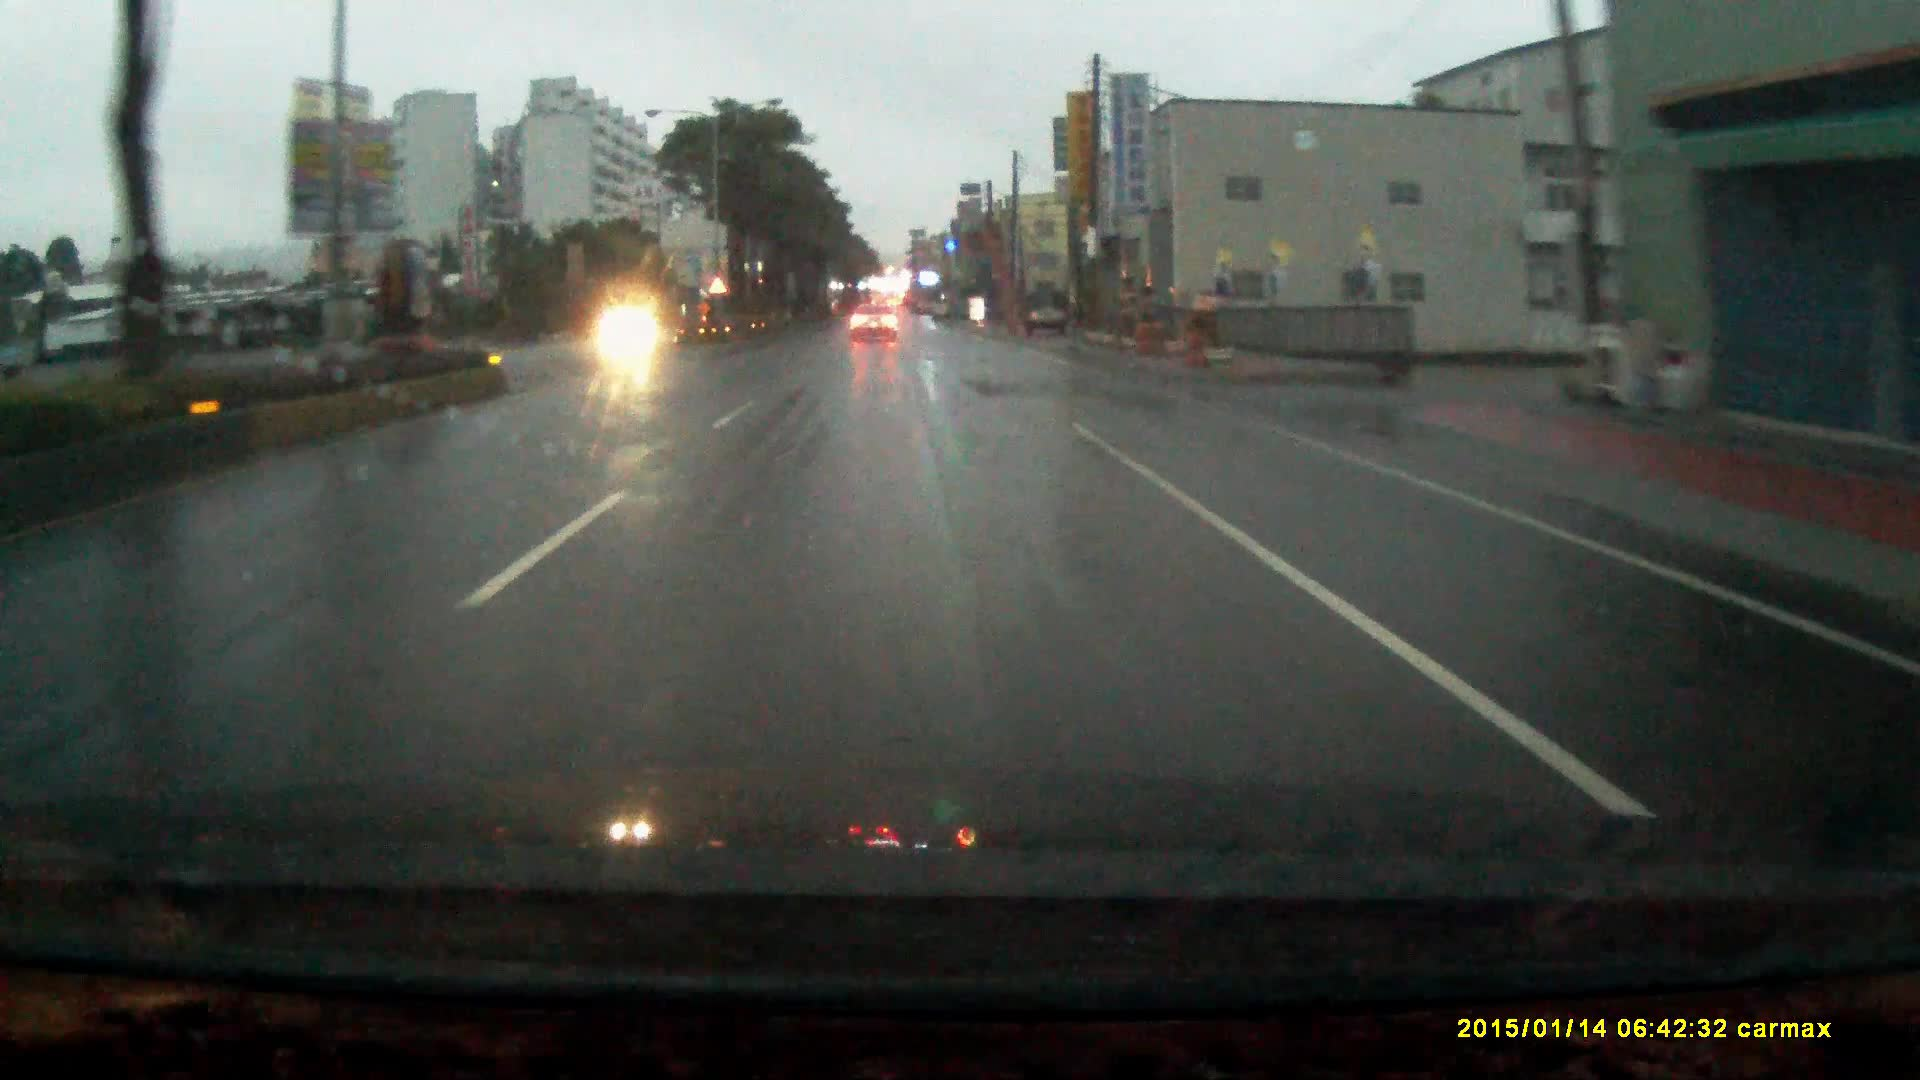vehicle: (847, 297, 898, 335), (1026, 287, 1065, 334)
